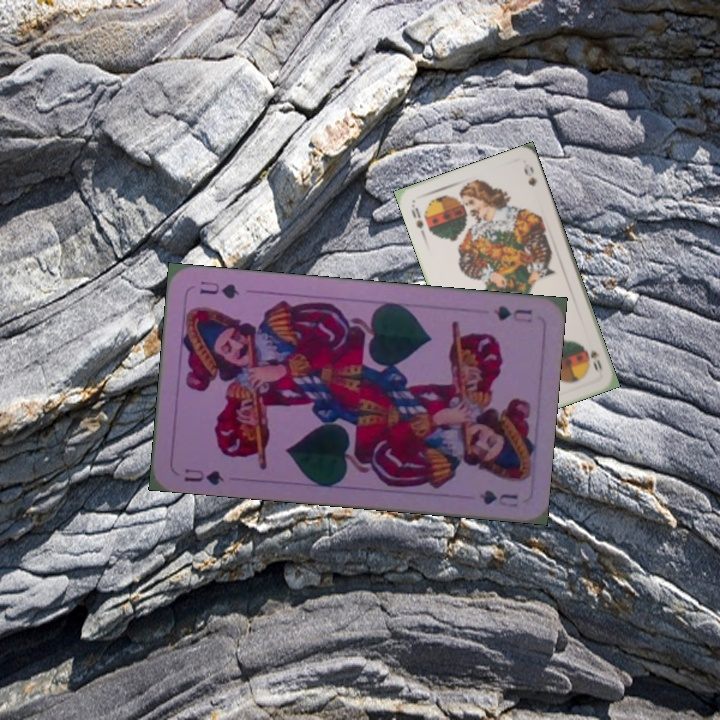GU: (489, 302, 535, 326), (180, 465, 227, 488)
SO: (407, 200, 428, 239), (586, 346, 605, 376)
